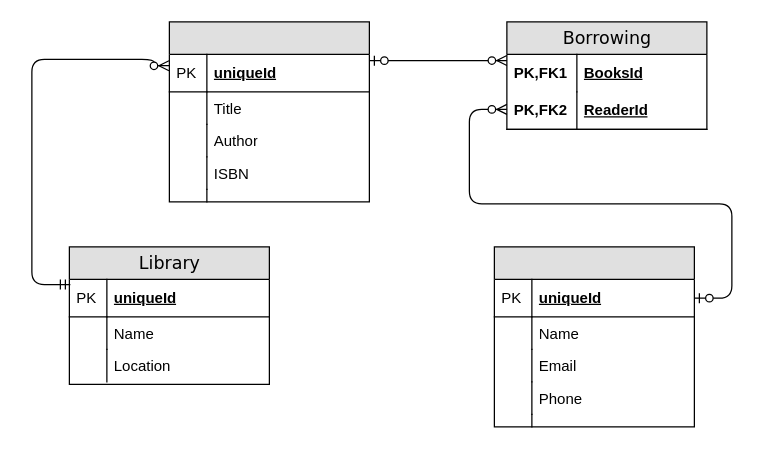
Image size: 765x449. Some labels were removed from this diagram. The box of each missing label's shape, as (x1, y1, x2, y2) in pixels:
Books: (168, 21, 369, 202)
Reader: (493, 246, 694, 427)
